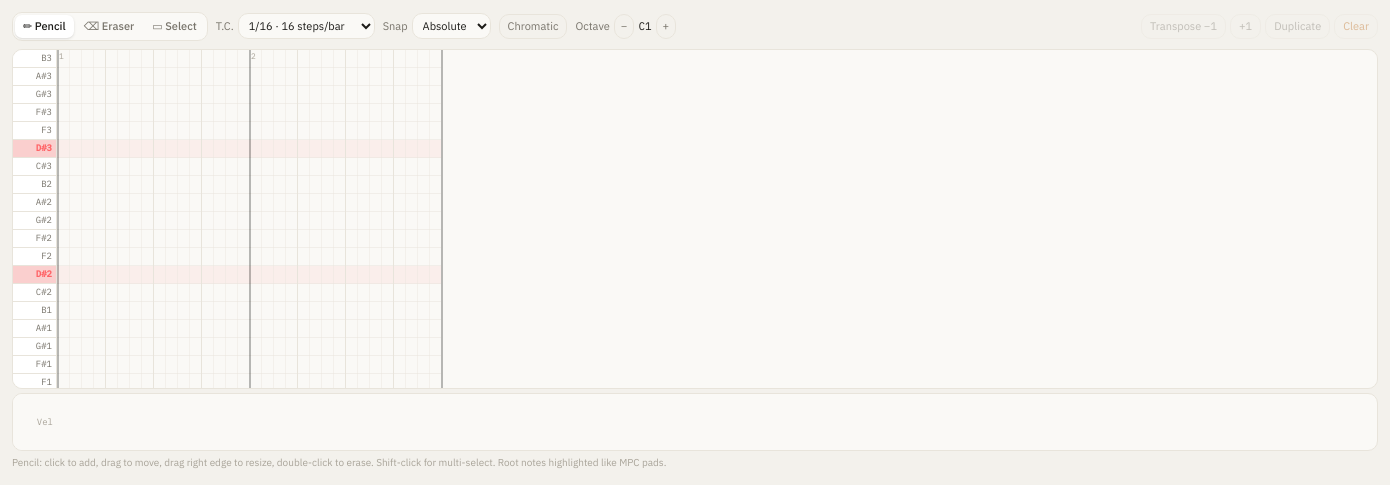
Test case: PianoRoll — layout › octave shift changes the visible range
Step 1. Click the button named "Octave up" → (666, 26), box [656,14,676,39]
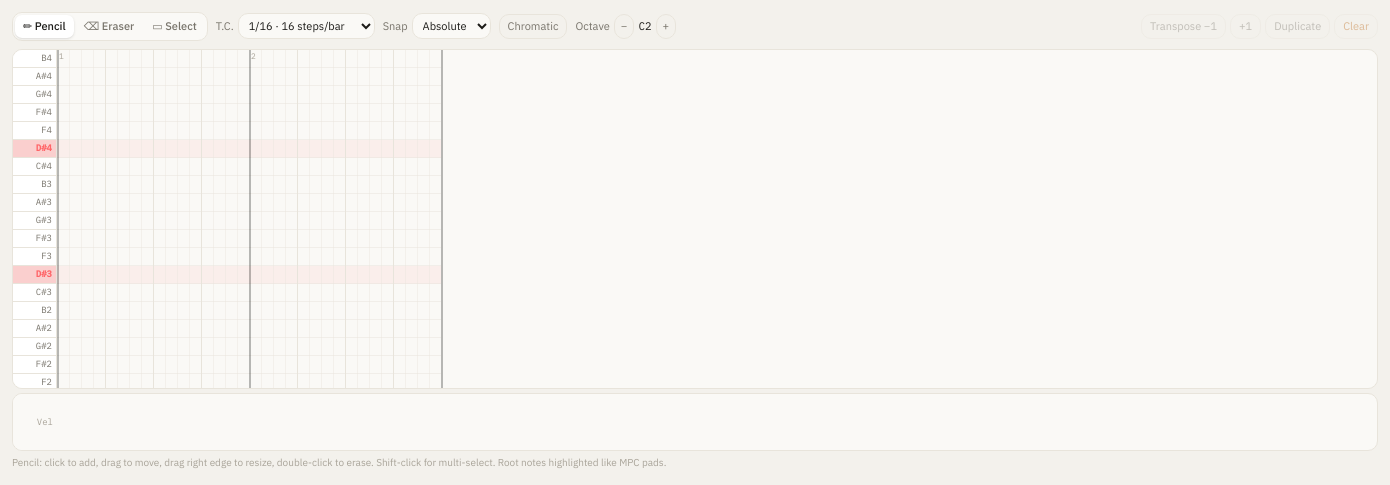
Now the text "D#4" is shown, box [13,140,57,158]
